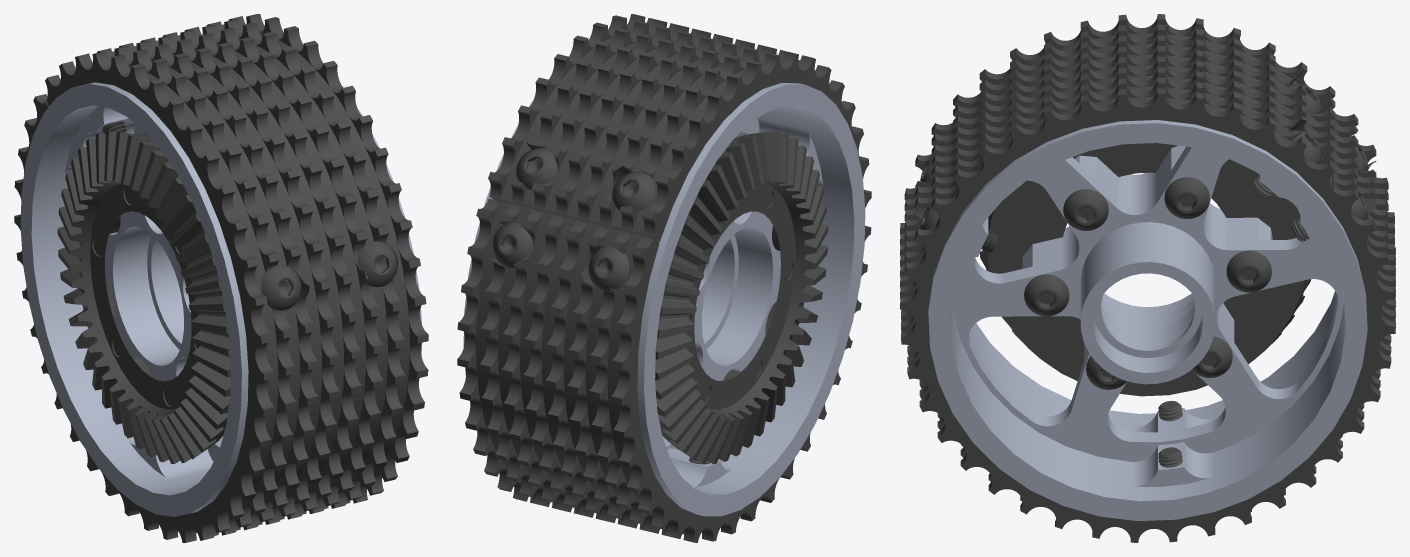
The picture shows the model from 3 angles, left to right: view 1: azimuth 30°, elevation 25°; view 2: azimuth 150°, elevation 25°; view 3: azimuth 270°, elevation 25°; orthographic projection.
Visible parts, largest first — view 1: Tread, Blue Nitrile 4in X 1.5in, Wheel, SDS, Nitrile Tread, 4in X 1.5in, Bearing Bore(Default, Bevel Gear, 4515, Screw, 10-32 X .5, Button, 97763A232 (×2); view 2: Tread, Blue Nitrile 4in X 1.5in, Wheel, SDS, Nitrile Tread, 4in X 1.5in, Bearing Bore(Default, Bevel Gear, 4515, Screw, 10-32 X .5, Button, 97763A232 (×4); view 3: Wheel, SDS, Nitrile Tread, 4in X 1.5in, Bearing Bore(Default, Tread, Blue Nitrile 4in X 1.5in, Bevel Gear, 4515, Screw, 10-32 X .75, Button, 91255A269 (×6), Screw, 10-32 X .5, Button, 97763A232.
Boxes of the visible parts, box(x1,y1,x2,y2) form: Tread, Blue Nitrile 4in X 1.5in: box(14, 14, 428, 542); Wheel, SDS, Nitrile Tread, 4in X 1.5in, Bearing Bore(Default: box(20, 82, 421, 516); Bevel Gear, 4515: box(57, 131, 230, 463); Screw, 10-32 X .5, Button, 97763A232 (×2): box(261, 241, 397, 310); Tread, Blue Nitrile 4in X 1.5in: box(457, 14, 871, 542); Wheel, SDS, Nitrile Tread, 4in X 1.5in, Bearing Bore(Default: box(463, 83, 865, 516); Bevel Gear, 4515: box(655, 131, 828, 463); Screw, 10-32 X .5, Button, 97763A232 (×4): box(492, 148, 654, 291); Wheel, SDS, Nitrile Tread, 4in X 1.5in, Bearing Bore(Default: box(928, 120, 1367, 521); Tread, Blue Nitrile 4in X 1.5in: box(900, 14, 1395, 542); Bevel Gear, 4515: box(979, 143, 1311, 396); Screw, 10-32 X .75, Button, 91255A269 (×6): box(1024, 177, 1271, 389); Screw, 10-32 X .5, Button, 97763A232: box(1254, 130, 1321, 197).
Size of the model in its own units: 0.0423 by 0.1003 by 0.1003.
